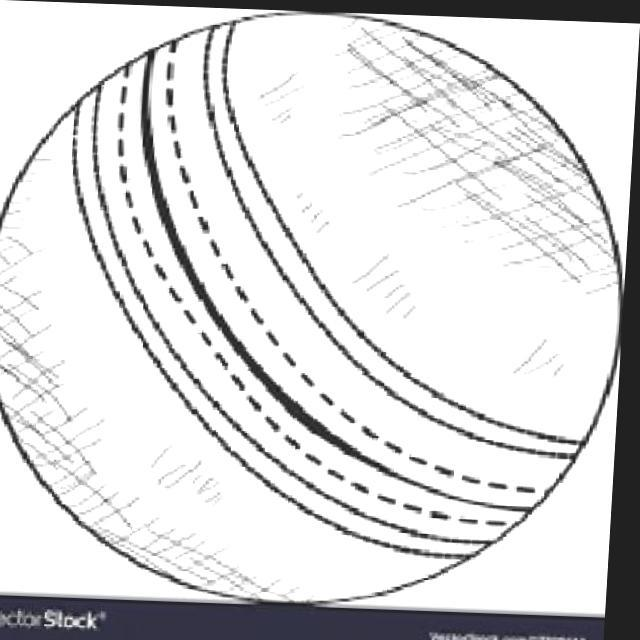-: (0, 16, 637, 600)
